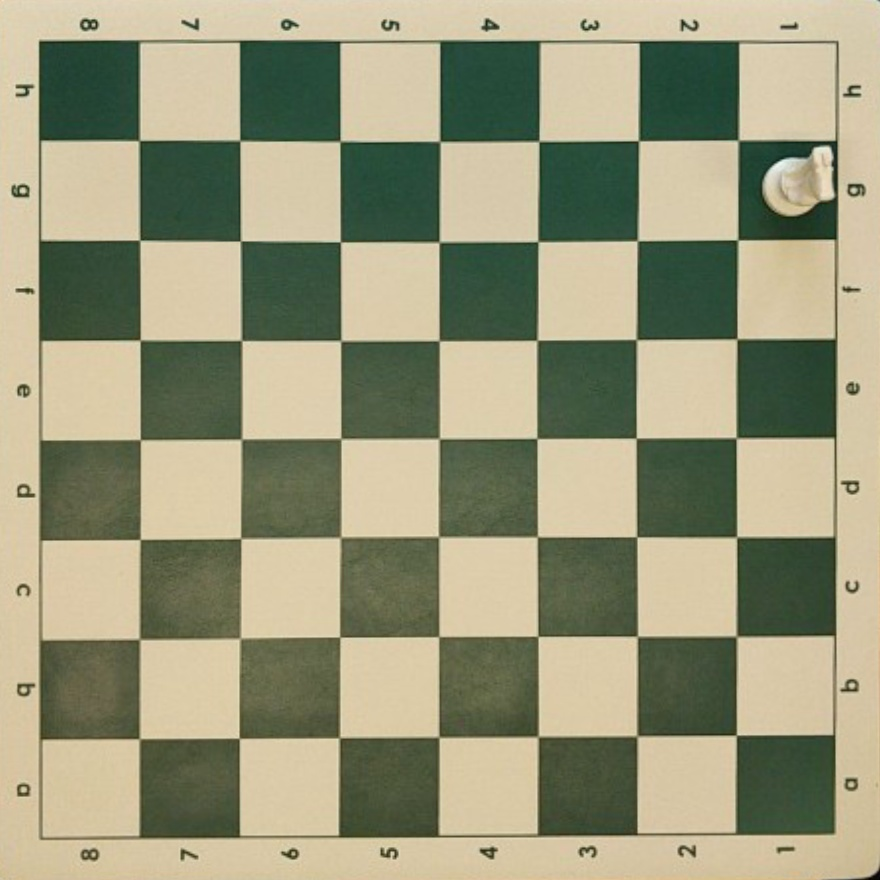white-knight: (762, 144, 848, 217)
